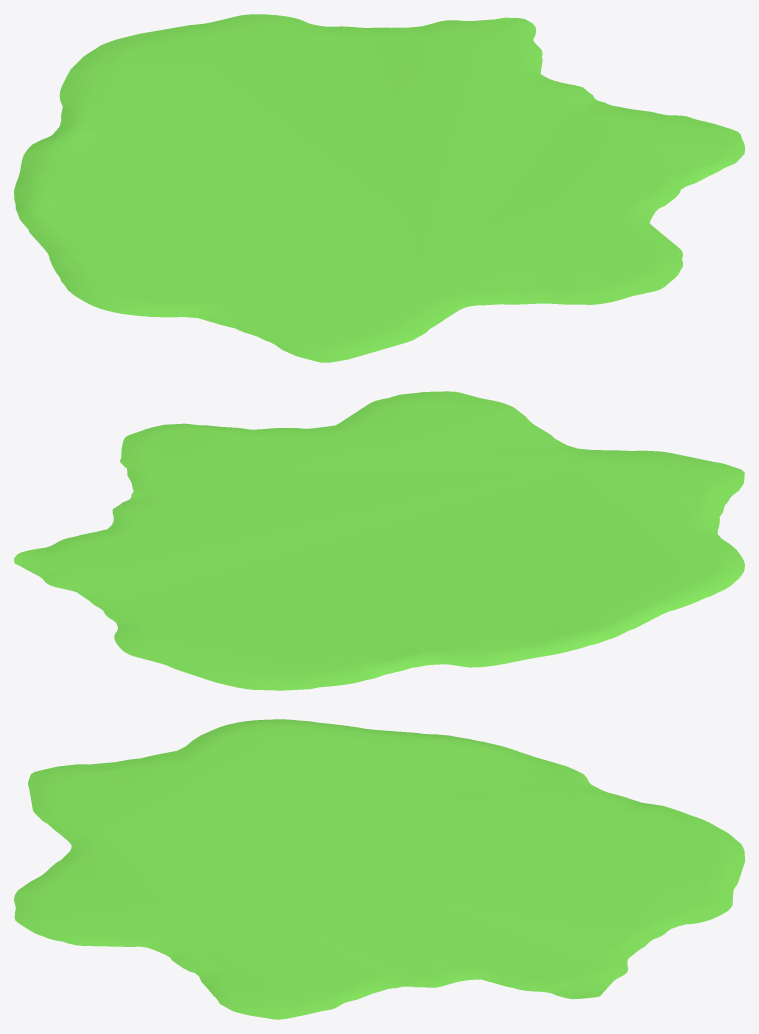
The model's file is Erba.fbx.
The picture shows the model from 3 angles, top to bottom: view 1: azimuth 30°, elevation 25°; view 2: azimuth 150°, elevation 25°; view 3: azimuth 270°, elevation 25°; orthographic projection. The views are drawn at different scales.
Parts seen in each view (by area): view 1: Erba; view 2: Erba; view 3: Erba.
Part boxes in pixels (x1,y1,x2,y2): Erba: (14,14,744,362); Erba: (14,391,744,690); Erba: (14,719,744,1019).
Size of the model in its own units: 1568 by 9.92 by 1608.
